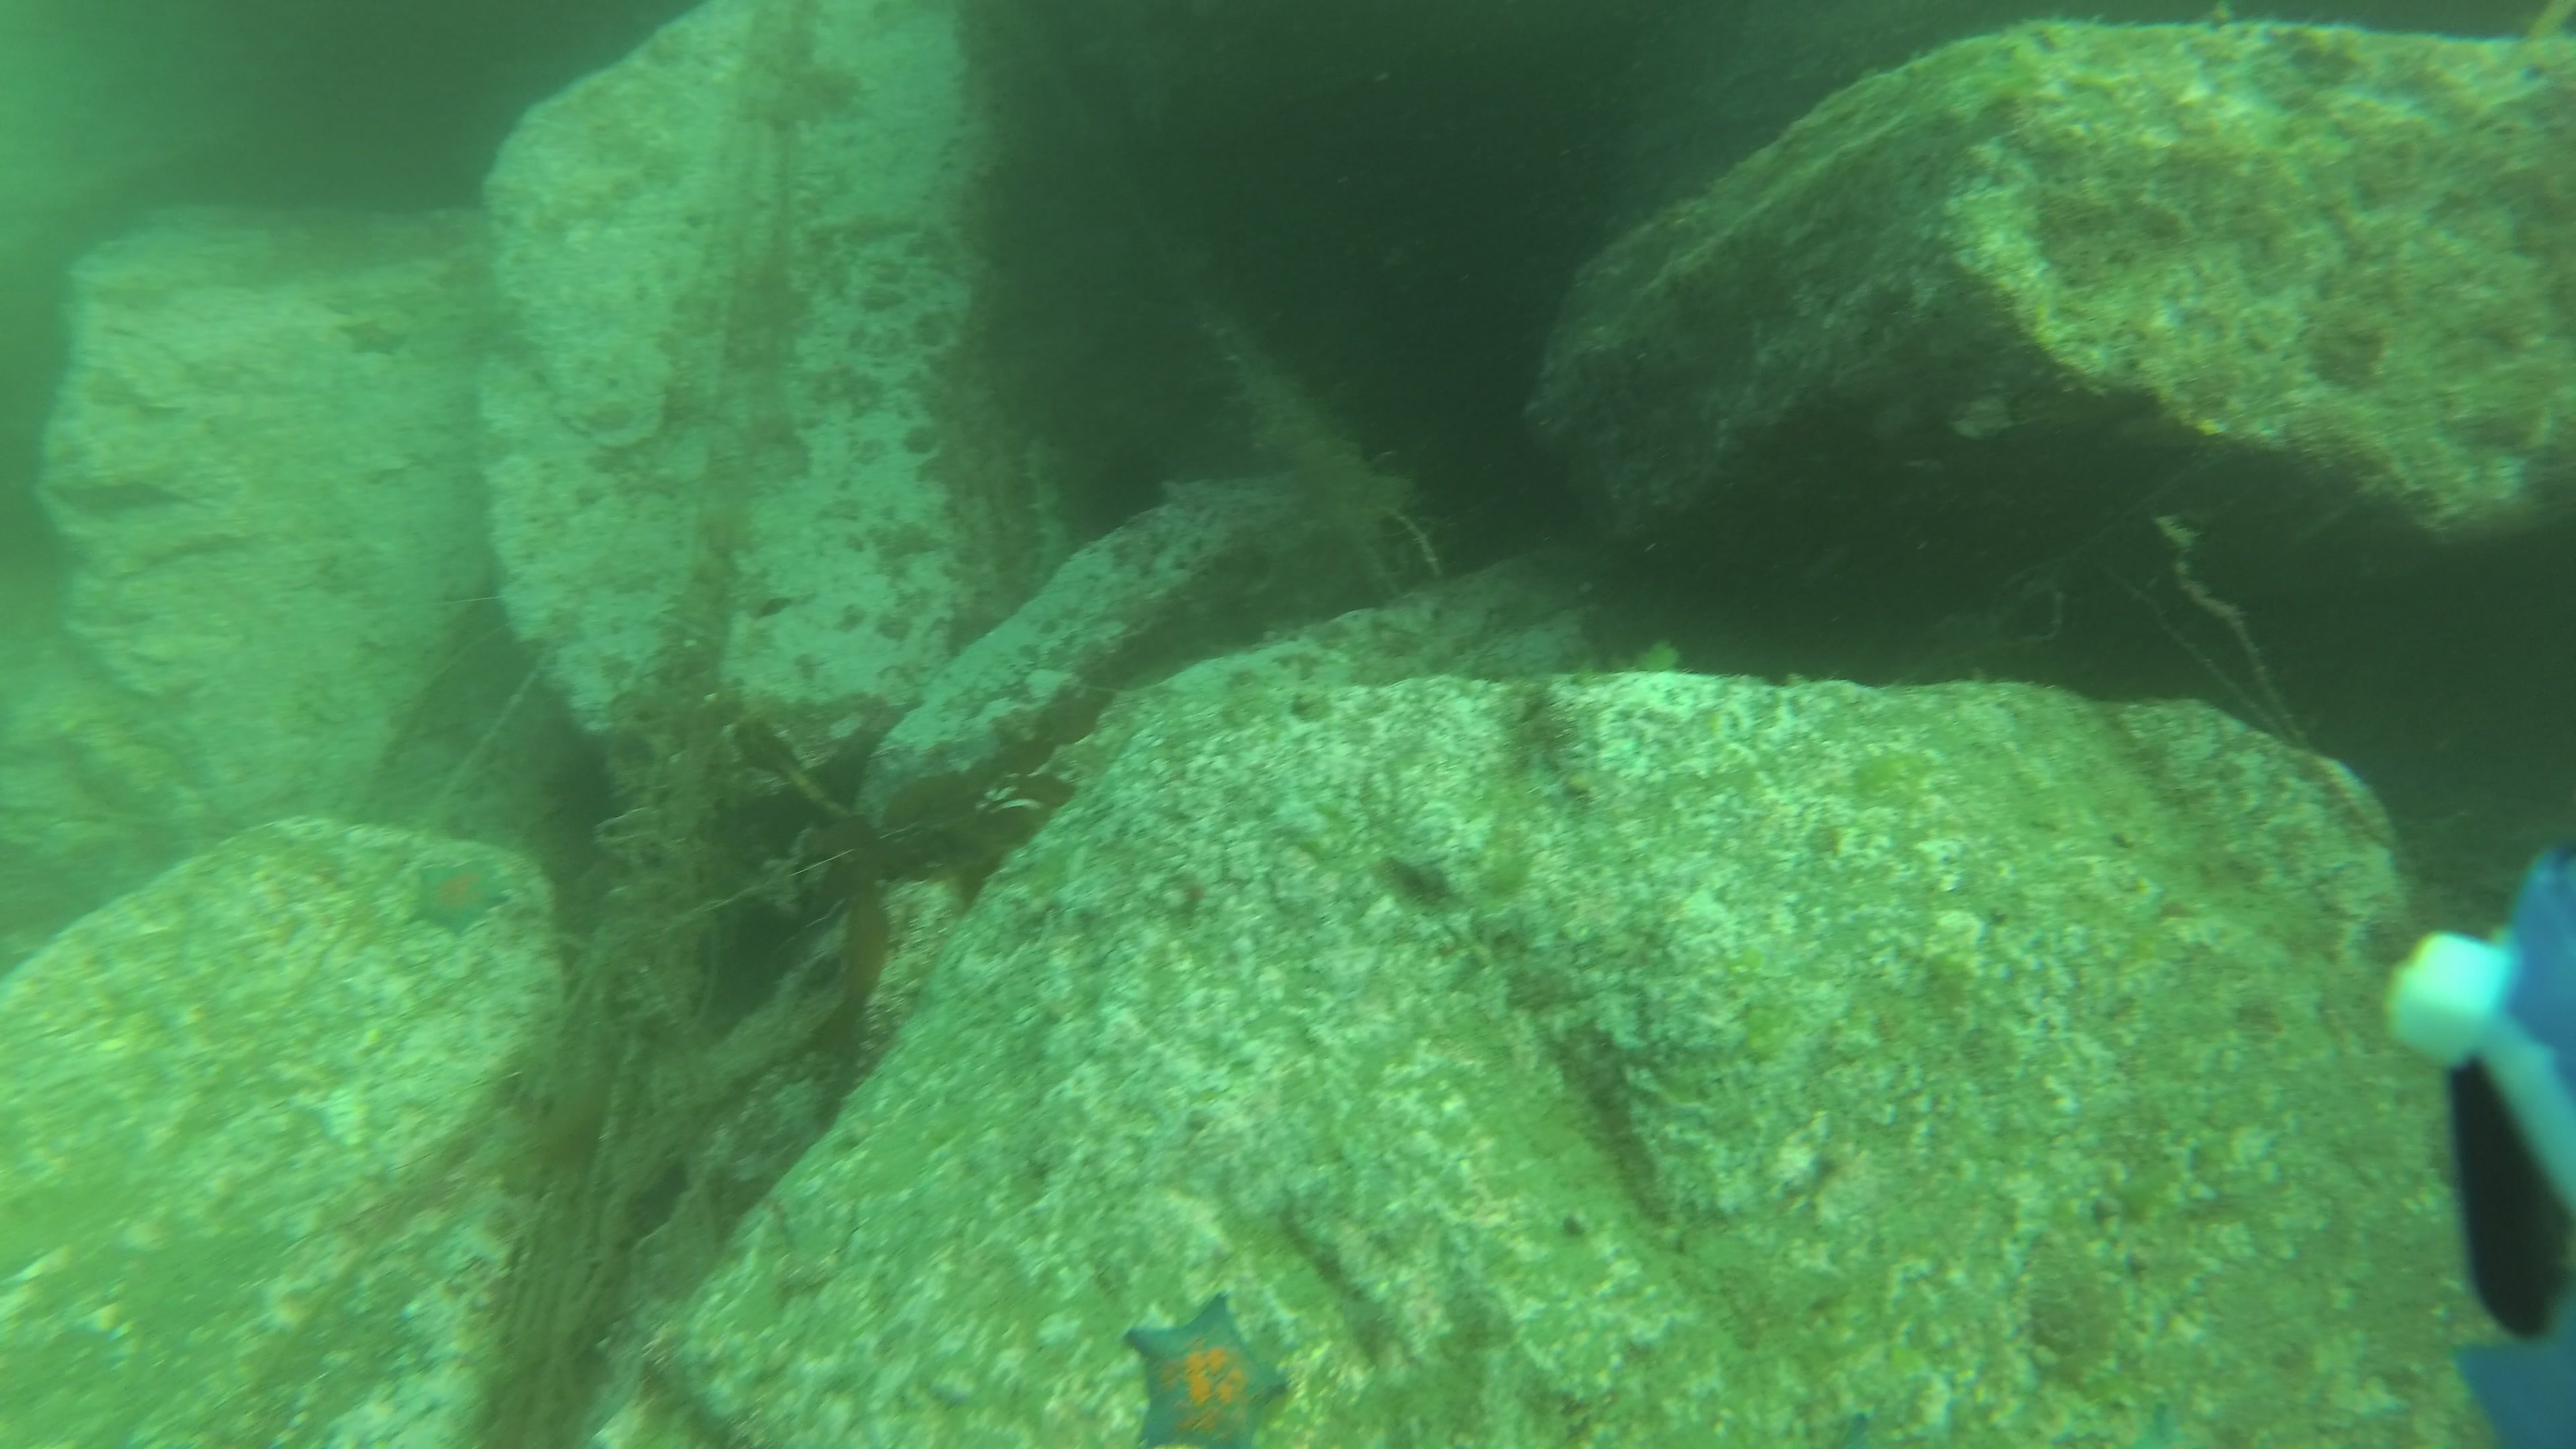echinus: (1079, 432, 1178, 533)
starfish: (1123, 1292, 1297, 1449), (402, 855, 517, 943), (334, 315, 416, 361)
